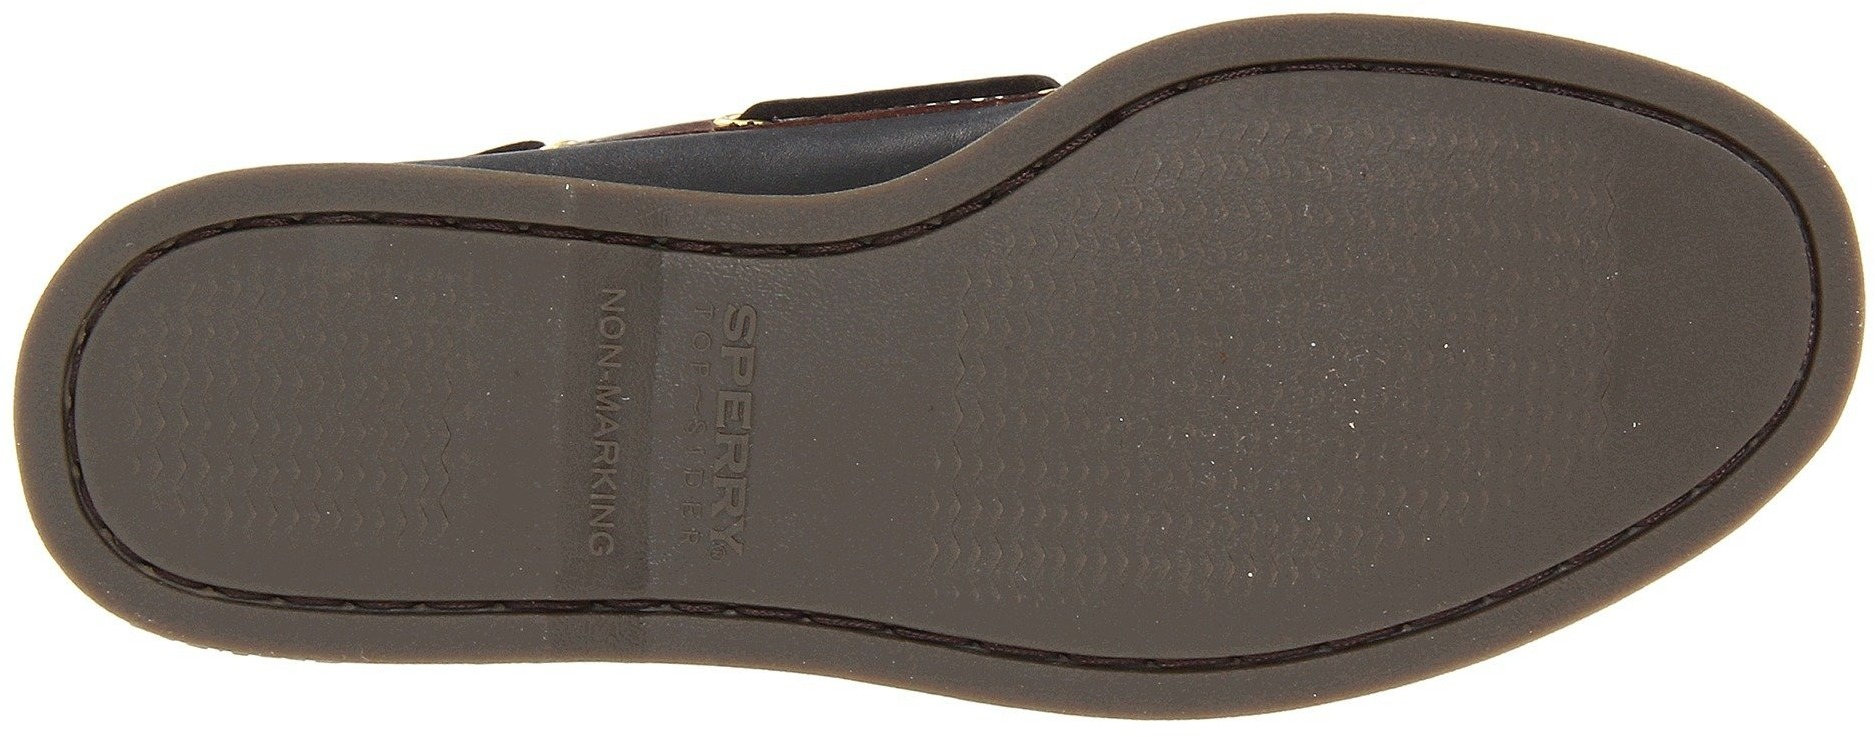chevron: (960, 230, 1279, 514)
circle: (576, 276, 646, 357)
text: (684, 403, 790, 497), (689, 301, 788, 398), (671, 493, 768, 585), (572, 368, 649, 458), (557, 470, 637, 553), (576, 276, 646, 357)
